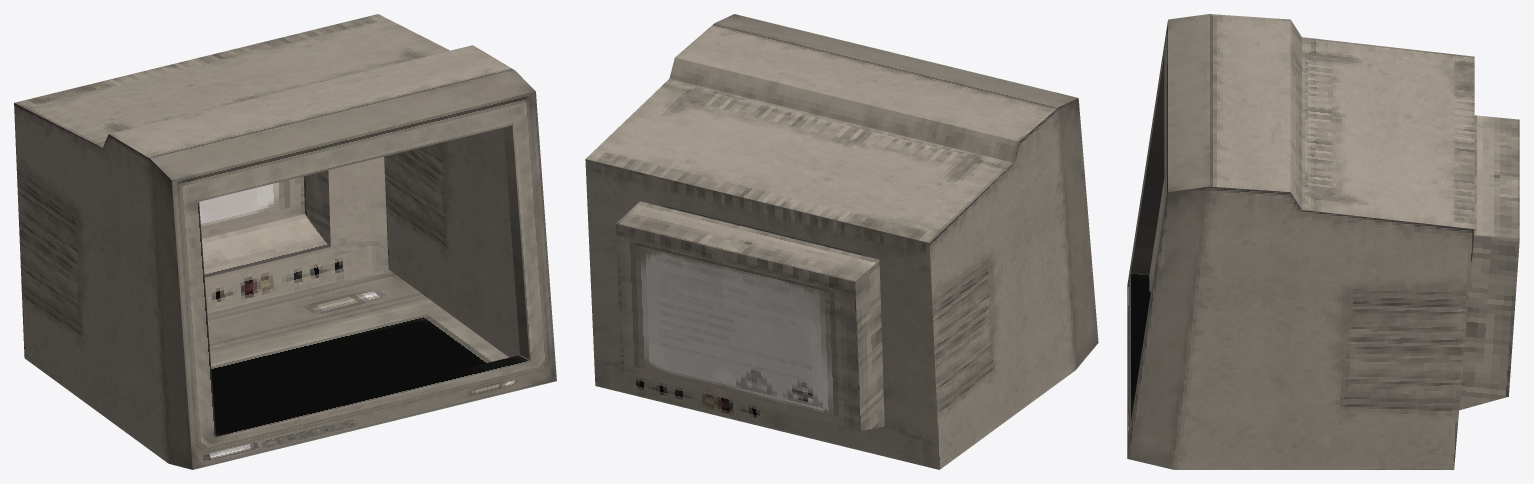
The model's file is old_monitor.glb.
3 views of the same model, side by side, from view 1: azimuth 30°, elevation 25°; view 2: azimuth 150°, elevation 25°; view 3: azimuth 270°, elevation 25° (orthographic). The views are drawn at different scales.
Parts seen in each view (by area): view 1: Cube.003; view 2: Cube.003; view 3: Cube.003.
Part boxes in pixels (box(x1,y1,x2,y2)): Cube.003: box(14, 14, 556, 469); Cube.003: box(585, 14, 1098, 469); Cube.003: box(1127, 14, 1519, 469).
Bounding box in the file's own units: 2 × 1.53 × 1.92.
1 material, 1 textured.
